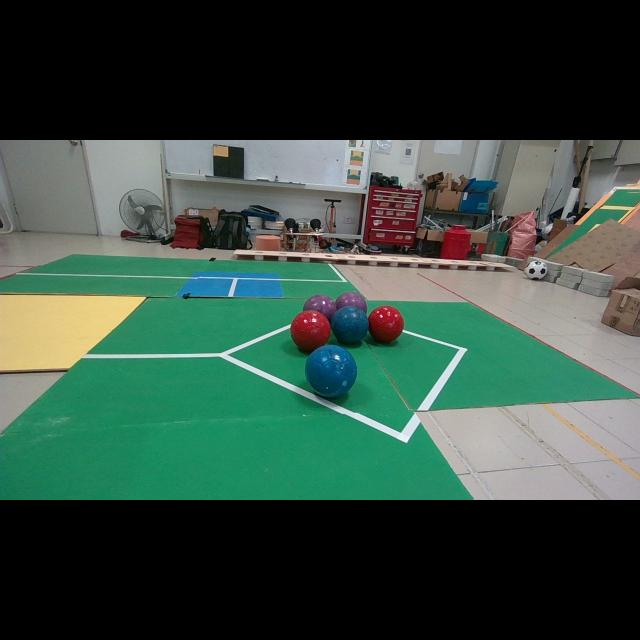B: (305, 345, 358, 398), (331, 306, 368, 343)
P: (302, 294, 338, 321), (336, 291, 366, 313)
R: (290, 310, 331, 352), (369, 305, 404, 342)
